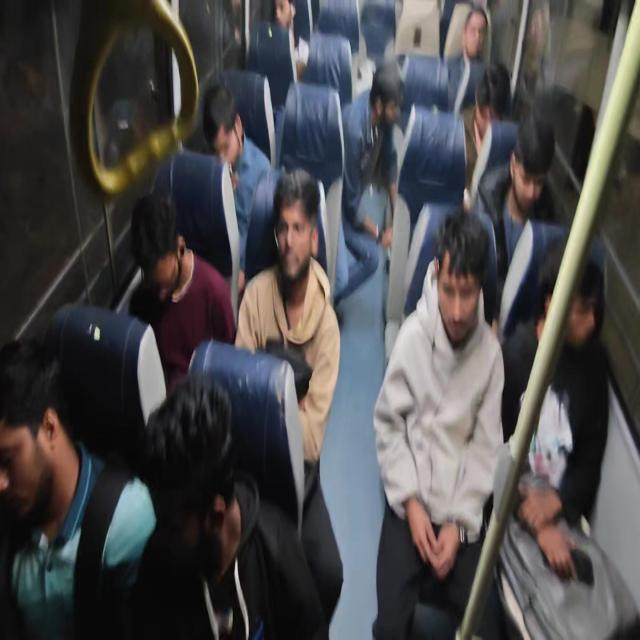person: (527, 250, 640, 560), (404, 240, 543, 490), (167, 378, 289, 640), (0, 358, 82, 563), (113, 207, 198, 374), (266, 186, 316, 322), (462, 4, 514, 128), (520, 118, 561, 228), (199, 82, 242, 172), (369, 54, 402, 144), (476, 74, 518, 144), (264, 0, 294, 44)
